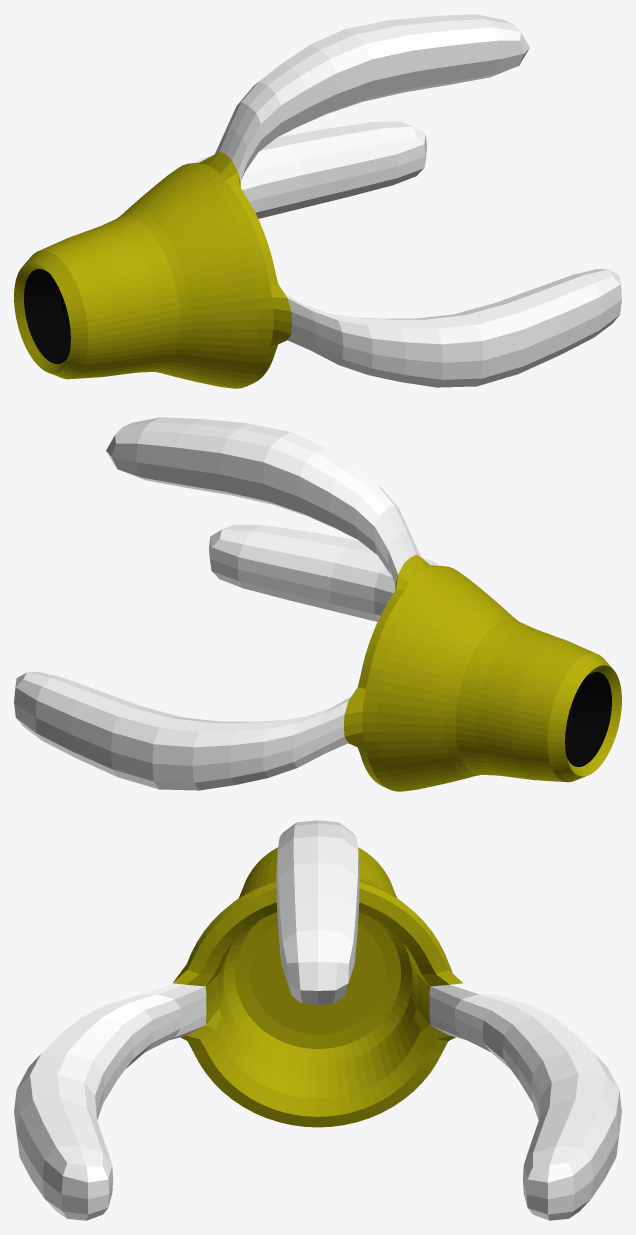
Rendered from EnemyWeapon2.fbx.
The picture shows the model from 3 angles, top to bottom: view 1: azimuth 30°, elevation 25°; view 2: azimuth 150°, elevation 25°; view 3: azimuth 270°, elevation 25°; orthographic projection. The views are drawn at different scales.
Visible parts, largest first — view 1: Cylinder; view 2: Cylinder; view 3: Cylinder.
Boxes of the visible parts, box(x1,y1,x2,y2) form: Cylinder: box(14, 14, 621, 388); Cylinder: box(14, 417, 621, 791); Cylinder: box(14, 820, 621, 1220).
Bounding box in the file's own units: 802 × 496 × 739.
